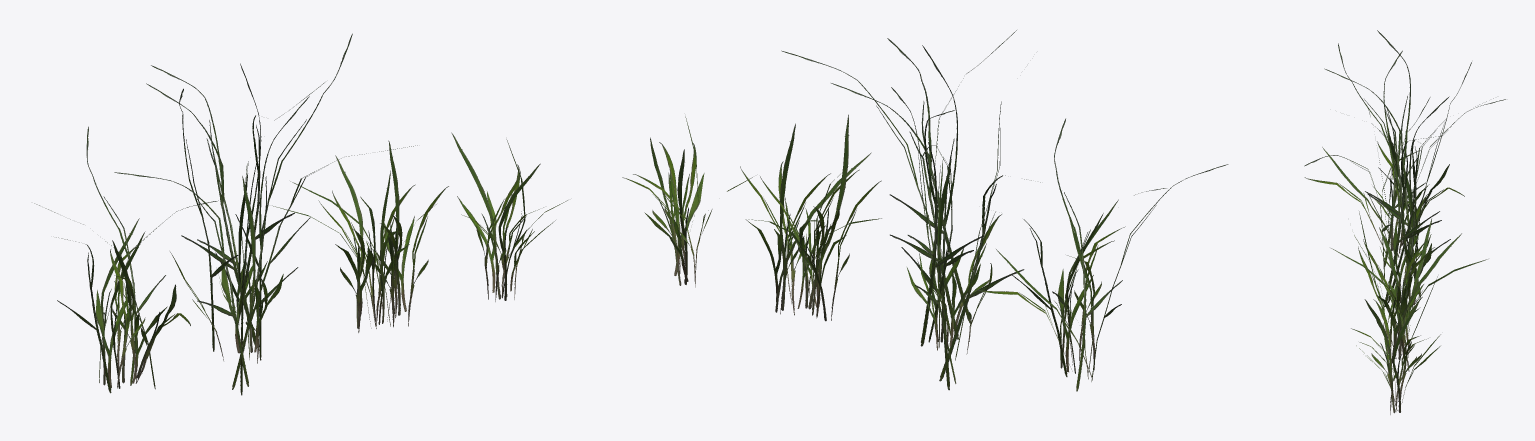
The model's file is grass.glb.
3 views of the same model, side by side, from view 1: azimuth 30°, elevation 25°; view 2: azimuth 150°, elevation 25°; view 3: azimuth 270°, elevation 25° (orthographic). The views are drawn at different scales.
Parts seen in each view (by area): view 1: grass; view 2: grass; view 3: grass.
Boxes of the visible parts, x1=… form: grass: x1=34, y1=33, x2=567, y2=395; grass: x1=622, y1=30, x2=1228, y2=391; grass: x1=1304, y1=30, x2=1505, y2=414.
Size of the model in its own units: 6.36 by 3.98 by 2.92.
1 material, 1 textured.
